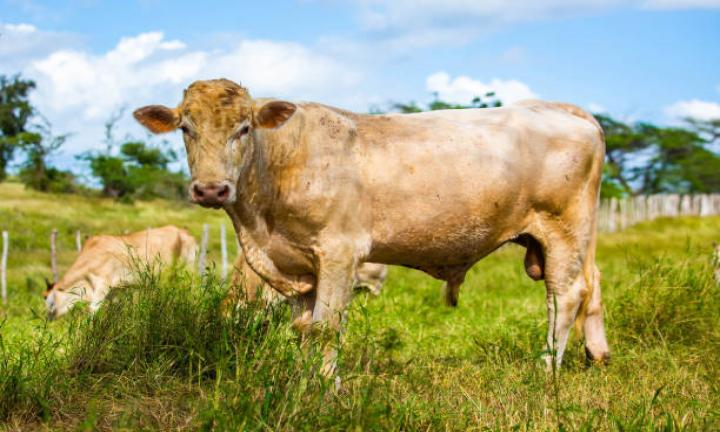Charolais: (134, 80, 608, 361)
